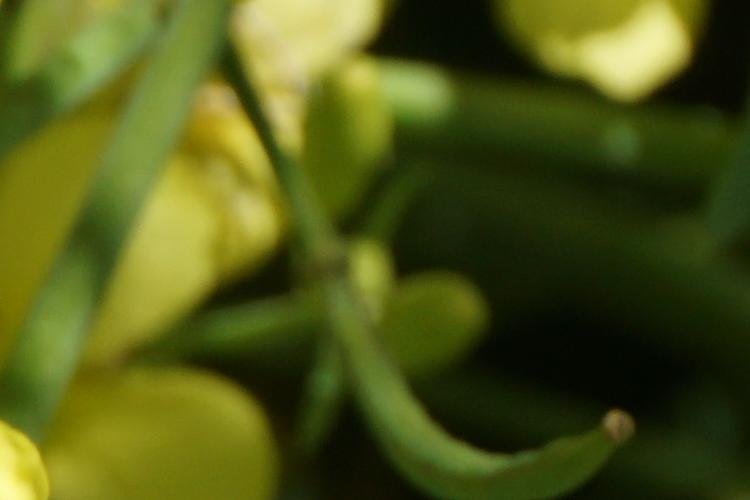pod: (299, 312, 658, 494)
